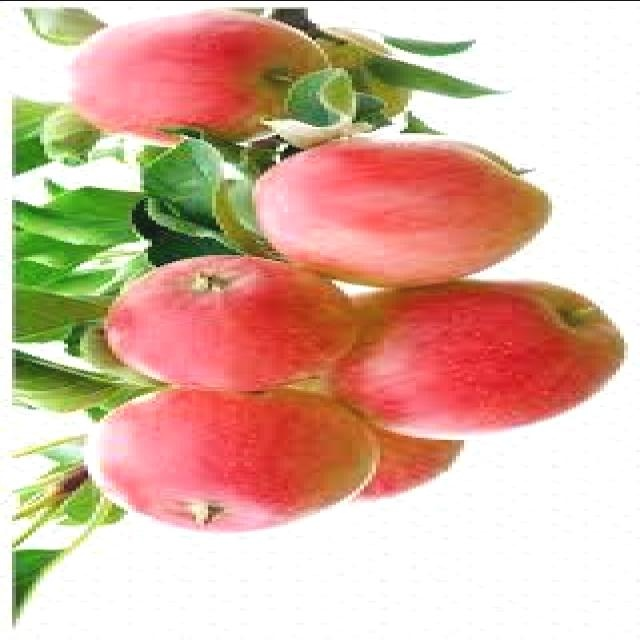agrume: (312, 262, 640, 451), (70, 369, 386, 546), (28, 4, 348, 176), (205, 128, 535, 280), (80, 233, 364, 388), (243, 357, 495, 518)
